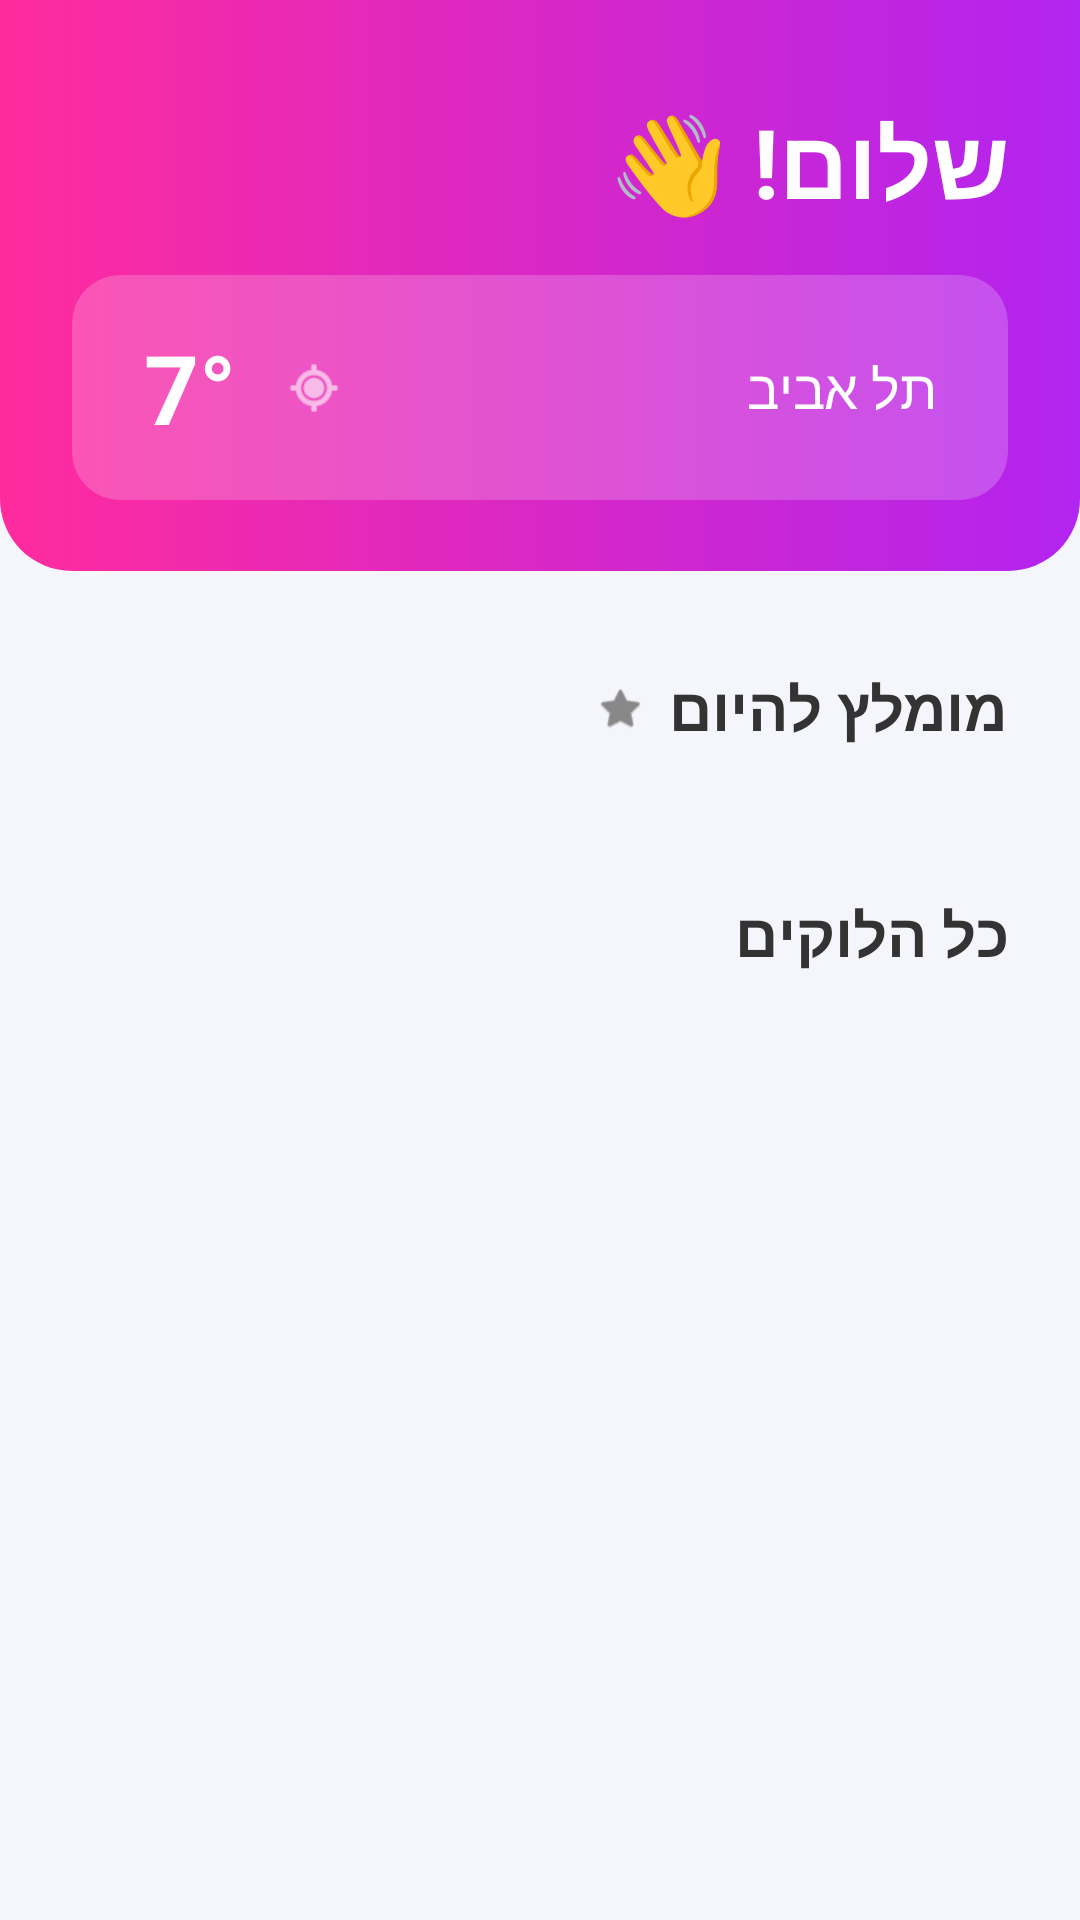

Point at icon controls on the screen. Image size 1080*1920, points as (x=x, y=y).
mylocation: (x=314, y=388)
star on: (x=620, y=708)
